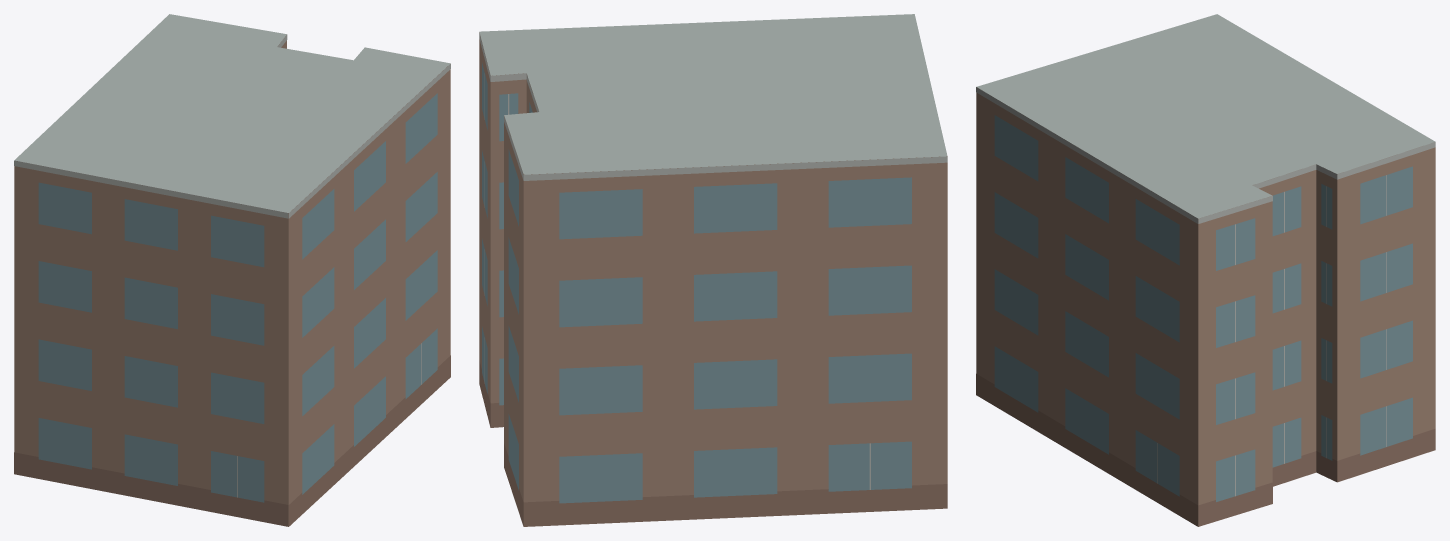
File: survey-upis-32806394.glb
3 views of the same model, side by side, from view 1: azimuth 30°, elevation 25°; view 2: azimuth 150°, elevation 25°; view 3: azimuth 270°, elevation 25° (orthographic). The views are drawn at different scales.
Parts seen in each view (by area): view 1: survey-upis-32806394.tmp; view 2: survey-upis-32806394.tmp; view 3: survey-upis-32806394.tmp.
Part boxes in pixels (bbox=[...]): survey-upis-32806394.tmp: bbox=[14, 14, 450, 526]; survey-upis-32806394.tmp: bbox=[479, 14, 947, 526]; survey-upis-32806394.tmp: bbox=[976, 14, 1435, 526].
Size of the model in its own units: 19.45 by 13.65 by 18.45.
